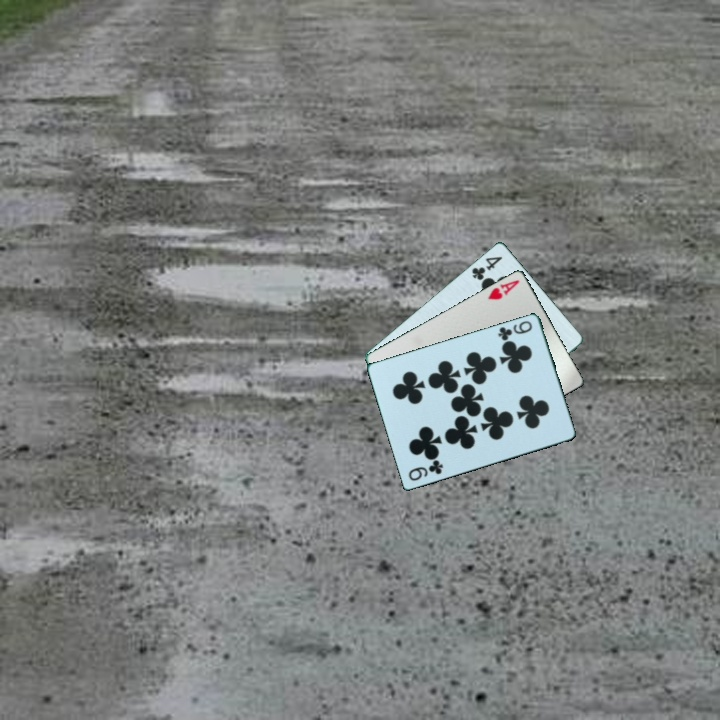4c: (468, 252, 505, 283)
9c: (494, 317, 535, 343), (405, 458, 446, 483)
Ah: (484, 276, 522, 303)
